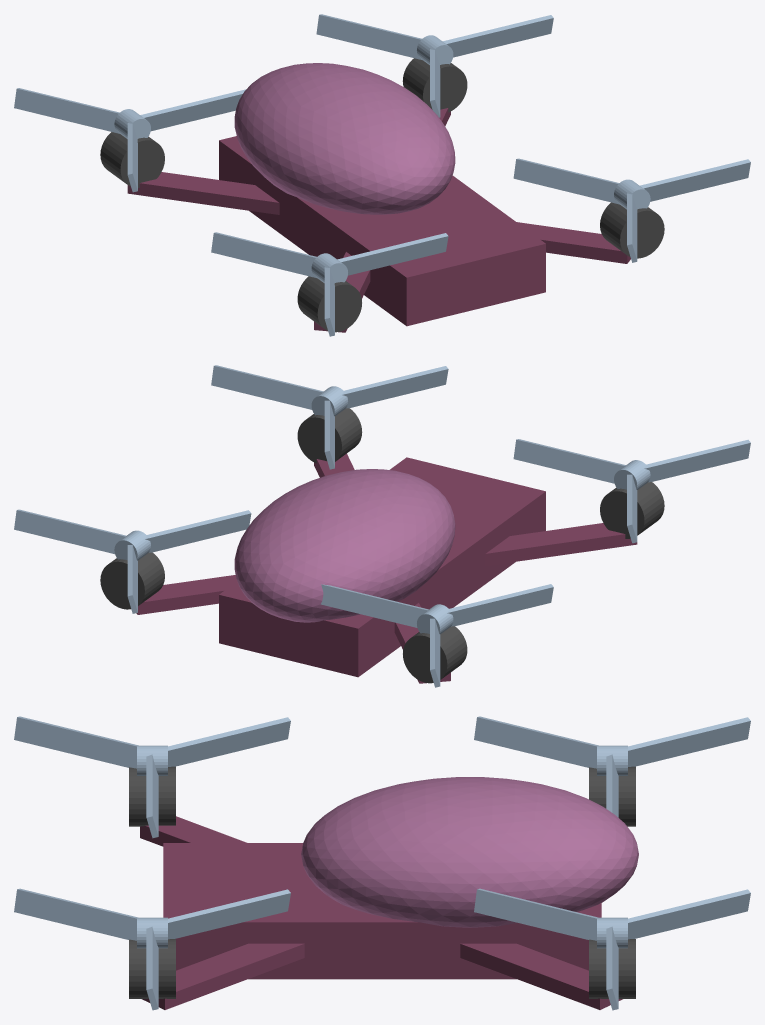
File: Thor X.glb
3 views of the same model, one above another, from view 1: azimuth 30°, elevation 25°; view 2: azimuth 150°, elevation 25°; view 3: azimuth 270°, elevation 25° (orthographic). The views are drawn at different scales.
Parts seen in each view (by area): view 1: canopy, frame_body, prop_0, prop_2, prop_1, prop_3, arm_3, arm_0, motor_0, motor_2, motor_3, motor_1; view 2: canopy, frame_body, prop_2, prop_0, prop_1, prop_3, arm_2, motor_1, motor_3, arm_1, motor_0, motor_2; view 3: canopy, frame_body, prop_1, prop_0, prop_2, prop_3, arm_1, arm_0, motor_0, motor_1, motor_2, arm_2 (+1 smaller).
Boxes of the visible parts, box(x1,y1,x2,y2) form: canopy: box(234, 63, 455, 214); frame_body: box(219, 136, 545, 326); prop_0: box(513, 158, 750, 262); prop_2: box(211, 232, 448, 336); prop_1: box(316, 14, 553, 117); prop_3: box(14, 88, 245, 192); arm_3: box(127, 172, 279, 214); arm_0: box(517, 222, 630, 263); motor_0: box(600, 202, 664, 258); motor_2: box(297, 276, 361, 332); motor_3: box(100, 132, 164, 187); motor_1: box(402, 58, 467, 112); canopy: box(234, 469, 455, 622); frame_body: box(219, 457, 545, 677); prop_2: box(513, 439, 750, 543); prop_0: box(211, 365, 448, 469); prop_1: box(14, 509, 251, 613); prop_3: box(320, 584, 553, 687); arm_2: box(485, 523, 637, 565); motor_1: box(100, 552, 164, 609); motor_3: box(403, 626, 467, 683); arm_1: box(136, 575, 236, 614); motor_0: box(297, 408, 362, 463); motor_2: box(600, 482, 664, 538); canopy: box(301, 777, 638, 927); frame_body: box(163, 843, 601, 979); prop_1: box(474, 888, 750, 1010); prop_0: box(14, 888, 290, 1010); prop_2: box(14, 716, 290, 838); prop_3: box(474, 716, 750, 817); arm_1: box(460, 943, 622, 1009); arm_0: box(142, 943, 304, 1009); motor_0: box(129, 939, 175, 998); motor_1: box(589, 939, 635, 998); motor_2: box(129, 766, 175, 826); arm_2: box(140, 816, 246, 846).
Bounding box in the file's own units: 0.2069 × 0.0516 × 0.2355.
